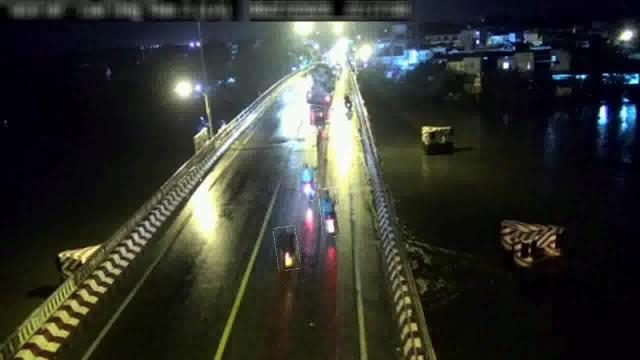Bike: (274, 226, 300, 270), (320, 188, 340, 236), (298, 162, 316, 202), (312, 110, 326, 134), (342, 92, 354, 114)
Truck: (304, 61, 341, 107)
